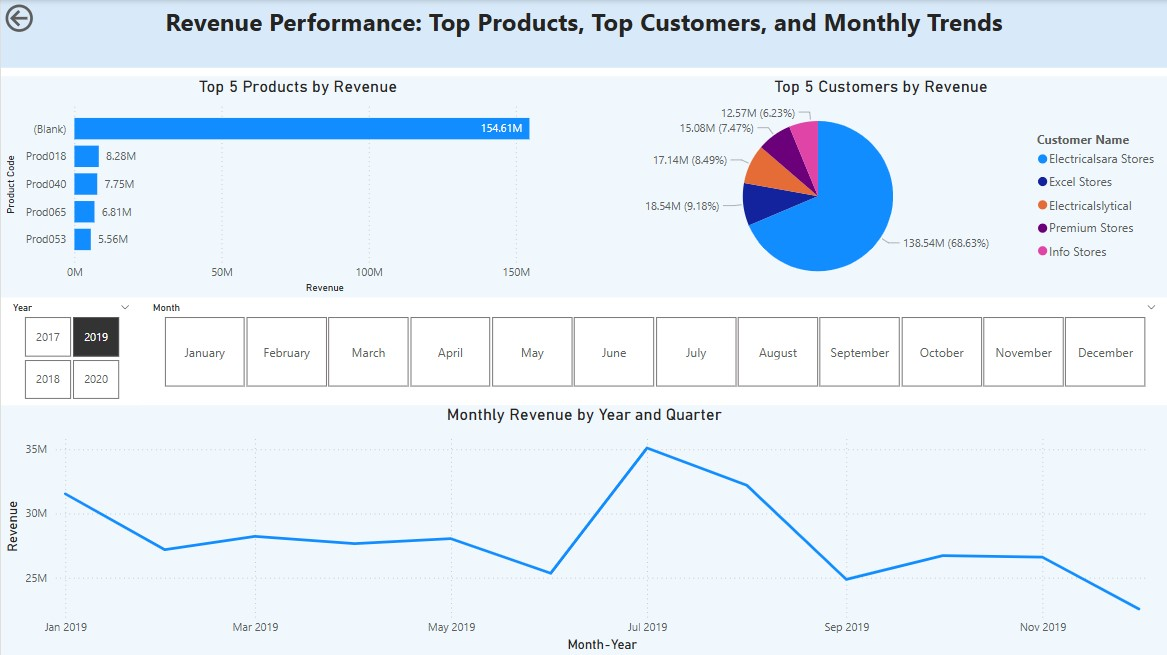

Layout of this report page (visuals, bound fields, positions):
{"tool":"powerbi","page":{"name":"RevenuePerformance","canvas":[1280,720],"ordinal":1},"visuals":[{"type":"textbox","box":[0,0,1280,74.3],"z":0},{"type":"barChart","title":"Top 5 Products by Revenue","fields":{"Category":["sales products.product_code"],"Y":["BaseMeasures.Revenue"]},"box":[0,83.7,651.8,242.9],"z":1000},{"type":"lineChart","title":"Monthly Revenue by Year and Quarter","fields":{"Y":["BaseMeasures.Revenue"],"Category":["sales date.cy_date.Variation.Date Hierarchy.Year","sales date.cy_date.Variation.Date Hierarchy.Quarter","sales date.cy_date.Variation.Date Hierarchy.Month","sales date.cy_date.Variation.Date Hierarchy.Day"]},"box":[0,444.6,1280.3,275.8],"z":2000},{"type":"pieChart","title":"Top 5 Customers by Revenue","fields":{"Category":["sales customers.custmer_name"],"Y":["BaseMeasures.Revenue"]},"box":[651.8,83.7,628.5,242.9],"z":3000},{"type":"slicer","fields":{"Values":["sales date.cy_date.Variation.Date Hierarchy.Year"]},"box":[0,326.6,153.7,118],"z":3001},{"type":"actionButton","box":[0,0,100,40],"z":3002},{"type":"slicer","fields":{"Values":["sales date.cy_date.Variation.Date Hierarchy.Month"]},"box":[153.7,326.6,1126.6,104.3],"z":3003}]}

Visuals, with their boxes in screenshot pixels (x1, y1, x2, y2), scaled from the page's 1280x720 canvas onto the 1167x655 screenshot:
textbox: bbox=[0, 0, 1166, 68]
"Top 5 Products by Revenue" barChart: bbox=[0, 76, 594, 297]
"Monthly Revenue by Year and Quarter" lineChart: bbox=[0, 404, 1166, 654]
"Top 5 Customers by Revenue" pieChart: bbox=[594, 76, 1166, 297]
slicer - sales date.cy_date.Variation.Date Hierarchy.Year: bbox=[0, 297, 140, 404]
actionButton: bbox=[0, 0, 91, 36]
slicer - sales date.cy_date.Variation.Date Hierarchy.Month: bbox=[140, 297, 1166, 392]
